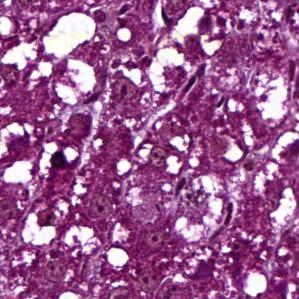ballooning: (35, 140, 81, 180)
